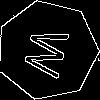W: (22, 25, 79, 82)
